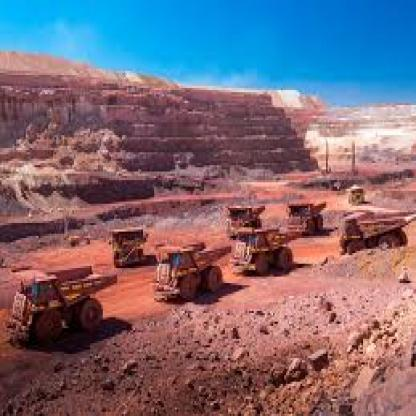dump_truck: (8, 257, 127, 352), (331, 193, 414, 279), (148, 232, 228, 311), (228, 221, 297, 289), (289, 189, 333, 240), (220, 198, 268, 242), (109, 223, 143, 264)
